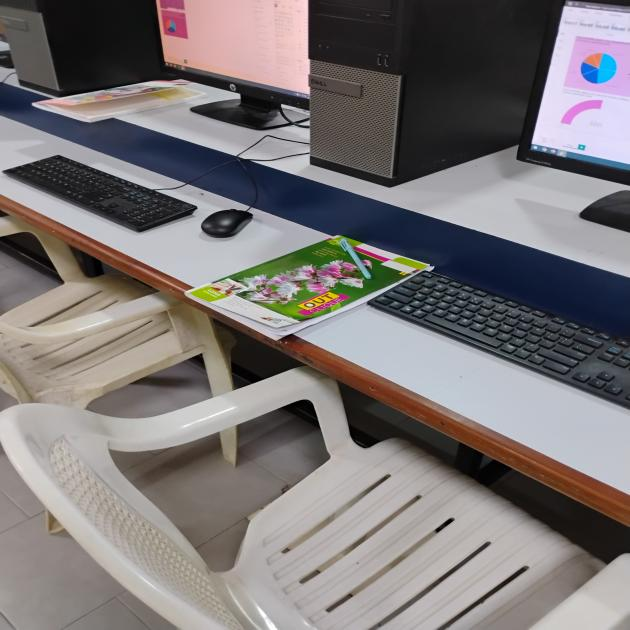chair: (10, 374, 593, 630)
cpu: (289, 0, 566, 192)
keyboard: (365, 253, 630, 387), (21, 147, 209, 256)
